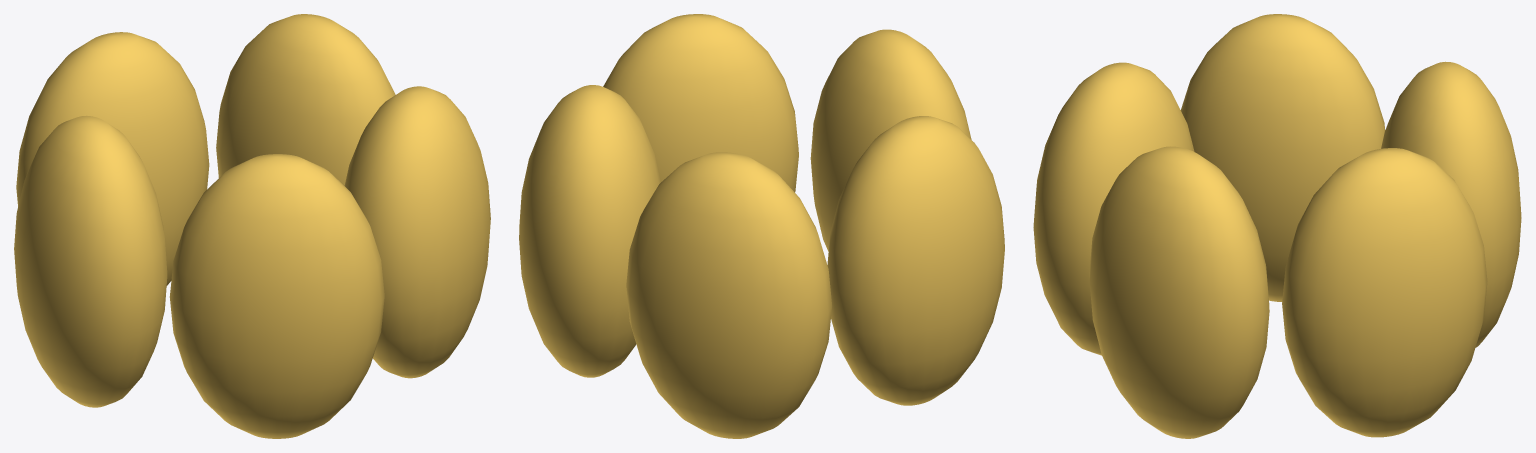
Rendered from crop_7_stage_0.fbx.
3 views of the same model, side by side, from view 1: azimuth 30°, elevation 25°; view 2: azimuth 150°, elevation 25°; view 3: azimuth 270°, elevation 25° (orthographic).
Visible parts, largest first — view 1: crop_7_stage_0; view 2: crop_7_stage_0; view 3: crop_7_stage_0.
Boxes of the visible parts, x1,y1,x2,y2 form: crop_7_stage_0: [14, 14, 490, 438]; crop_7_stage_0: [519, 14, 1004, 438]; crop_7_stage_0: [1033, 14, 1521, 438].
Bounding box in the file's own units: 0.055 × 0.035 × 0.055.
1 material, 1 textured.
